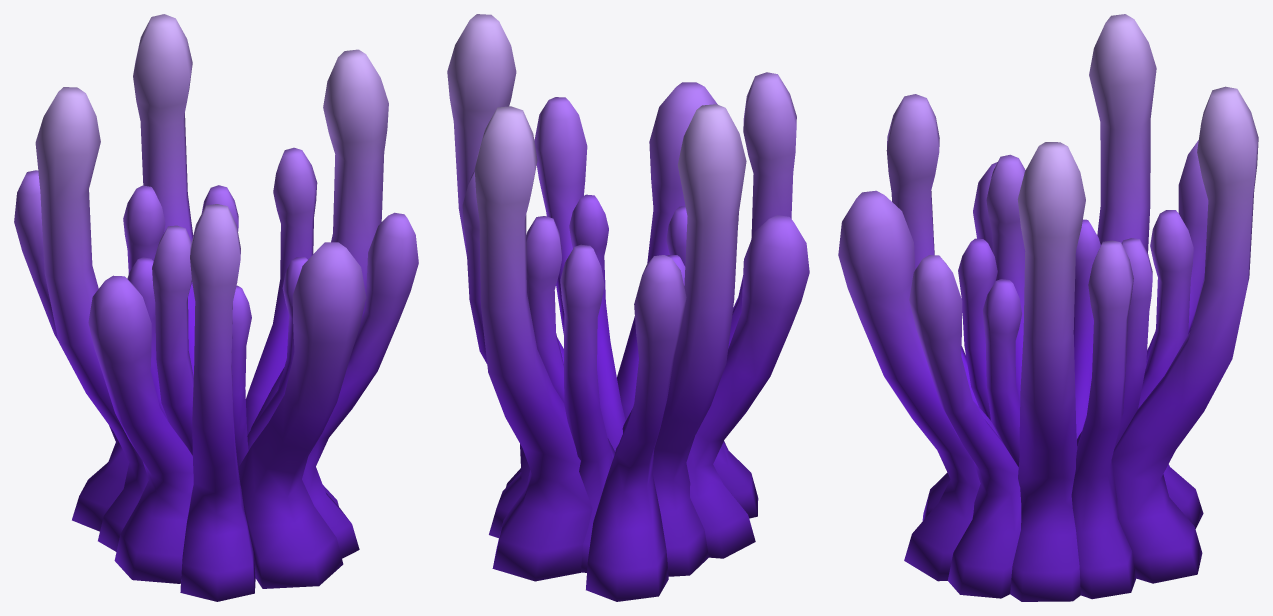
File: Purple_Coral_01.fbx
3 renders of one model, left to right at view 1: azimuth 30°, elevation 25°; view 2: azimuth 150°, elevation 25°; view 3: azimuth 270°, elevation 25°, orthographic. The views are drawn at different scales.
Parts seen in each view (by area): view 1: Purple_Coral_01; view 2: Purple_Coral_01; view 3: Purple_Coral_01.
Boxes of the visible parts, box(x1,y1,x2,y2) form: Purple_Coral_01: box(14, 14, 418, 601); Purple_Coral_01: box(447, 14, 809, 601); Purple_Coral_01: box(838, 14, 1258, 601).
Size of the model in its own units: 111 by 155 by 126.
